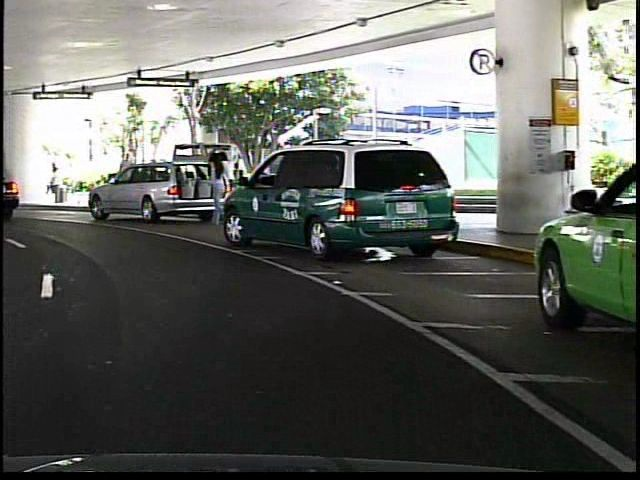person: (205, 148, 225, 226), (113, 149, 135, 202)
